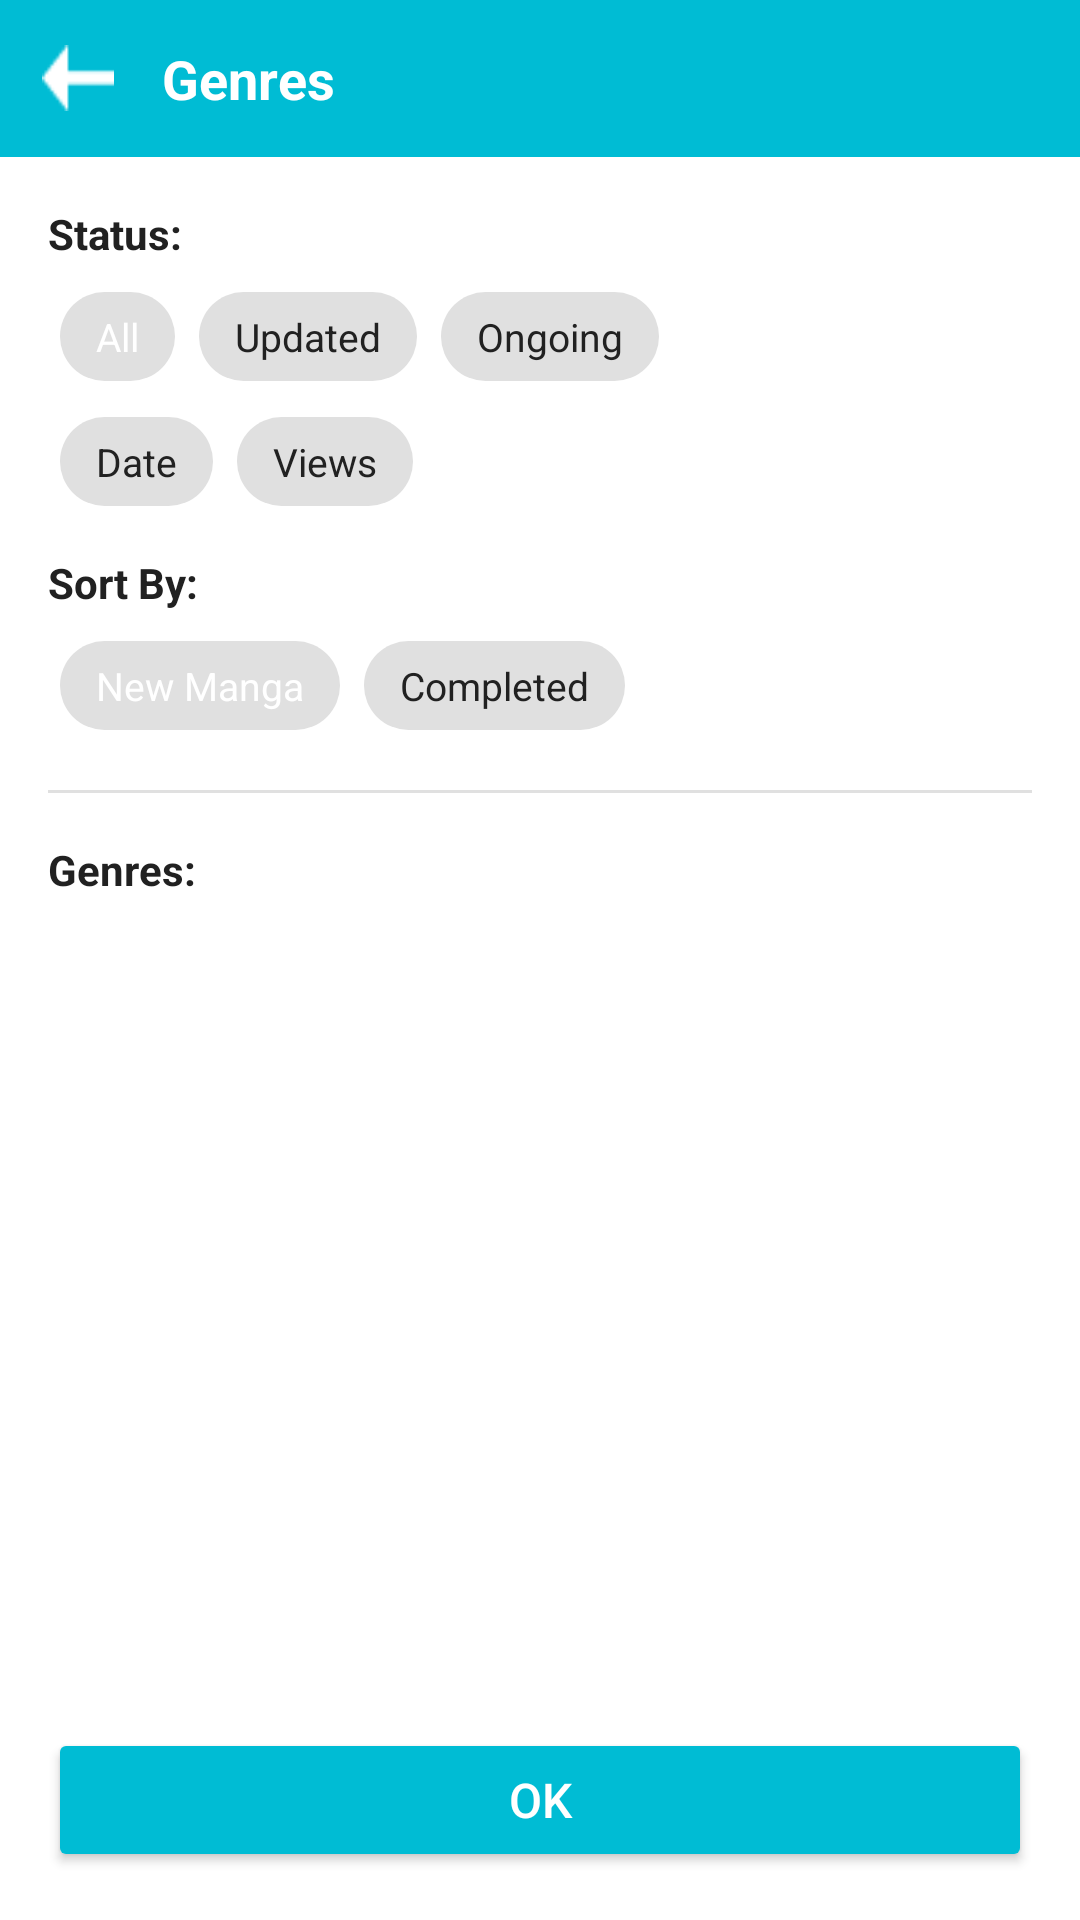

Named icons in this screenshot (1080px×1920px) and their centers, (x,y):
activity back: (78,78)
